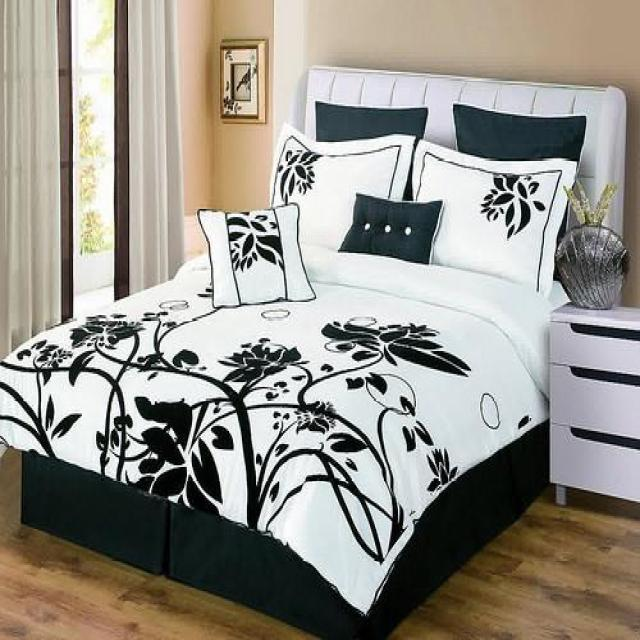bed: (0, 64, 627, 638)
